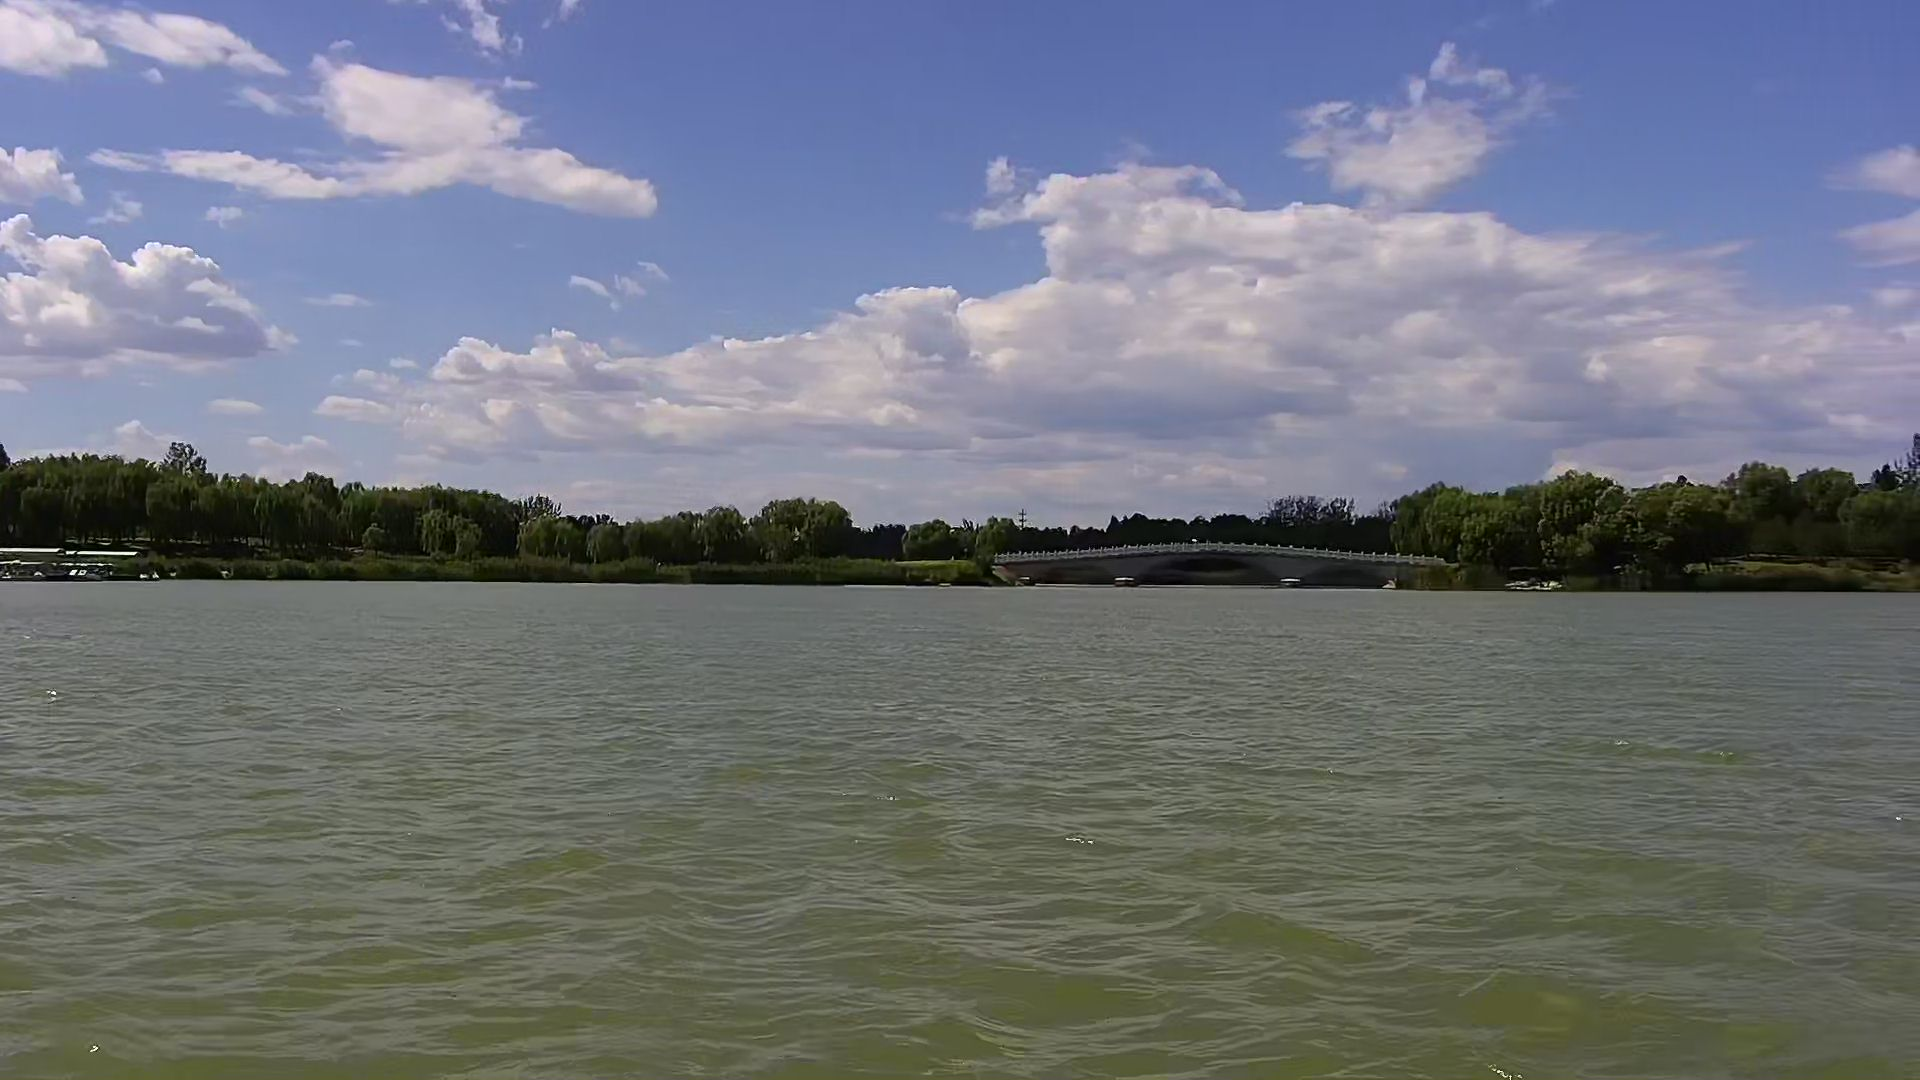bridge: (994, 541, 1468, 597)
harbor: (1, 541, 150, 585)
